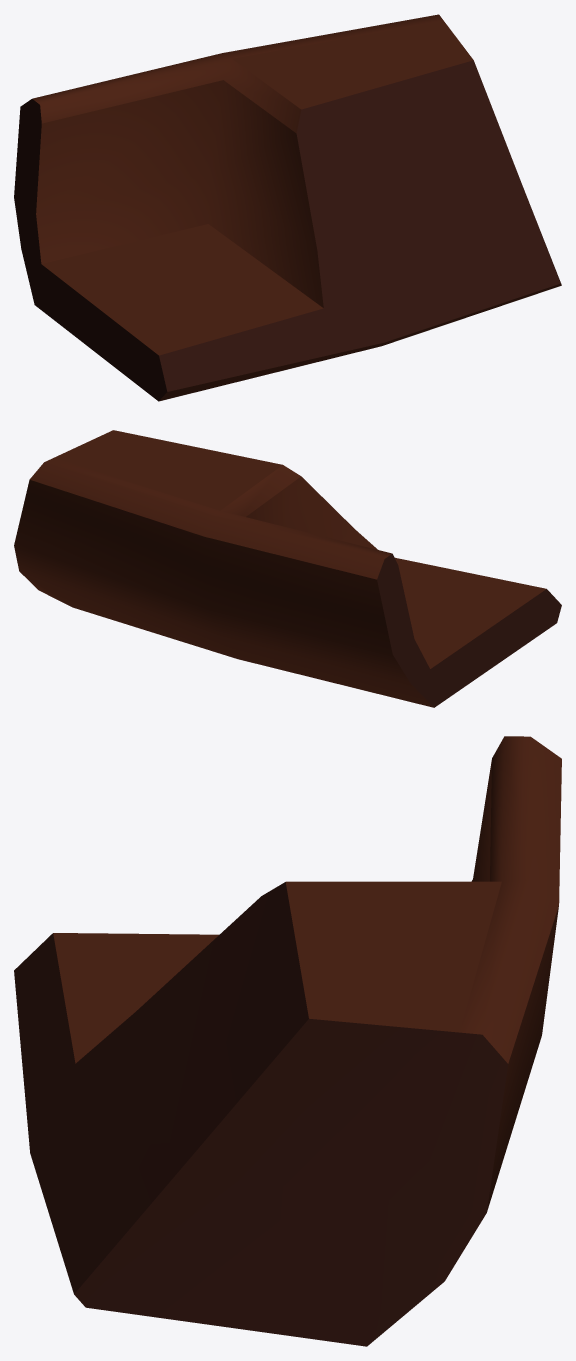
The model's file is BateauPart_Part_2.fbx.
The picture shows the model from 3 angles, top to bottom: view 1: azimuth 30°, elevation 25°; view 2: azimuth 150°, elevation 25°; view 3: azimuth 270°, elevation 25°; orthographic projection. The views are drawn at different scales.
Visible parts, largest first — view 1: BateauPart_Part_2; view 2: BateauPart_Part_2; view 3: BateauPart_Part_2.
Boxes of the visible parts, box(x1,y1,x2,y2) form: BateauPart_Part_2: box(14, 14, 561, 401); BateauPart_Part_2: box(14, 430, 561, 707); BateauPart_Part_2: box(14, 736, 561, 1346).
Bounding box in the file's own units: 56.88 × 20.86 × 37.09.
